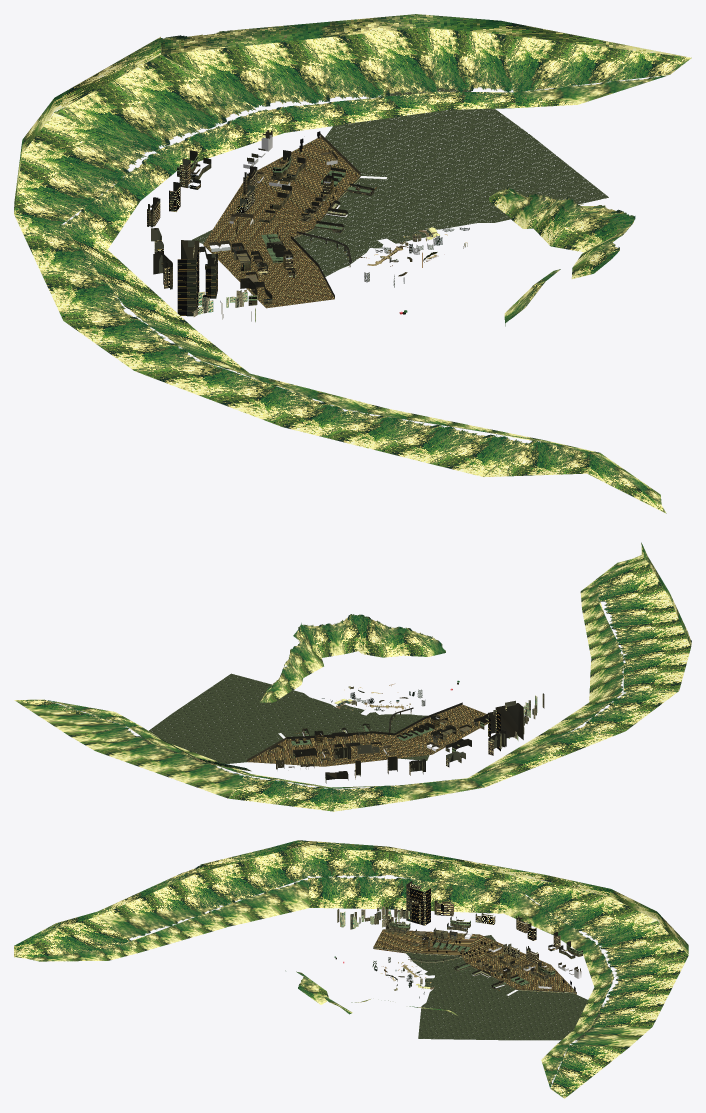
The model's file is track-US_C1_V1_env.glb.
The picture shows the model from 3 angles, top to bottom: view 1: azimuth 30°, elevation 25°; view 2: azimuth 150°, elevation 25°; view 3: azimuth 270°, elevation 25°; orthographic projection. The views are drawn at different scales.
Visible parts, largest first — view 1: US_C1_V1_env; view 2: US_C1_V1_env; view 3: US_C1_V1_env.
Boxes of the visible parts, x1=… form: US_C1_V1_env: x1=14, y1=14, x2=691, y2=513; US_C1_V1_env: x1=14, y1=542, x2=691, y2=811; US_C1_V1_env: x1=14, y1=840, x2=688, y2=1098.
Bounding box in the file's own units: 16970 × 1372 × 21369.
50 materials, 49 textured.
